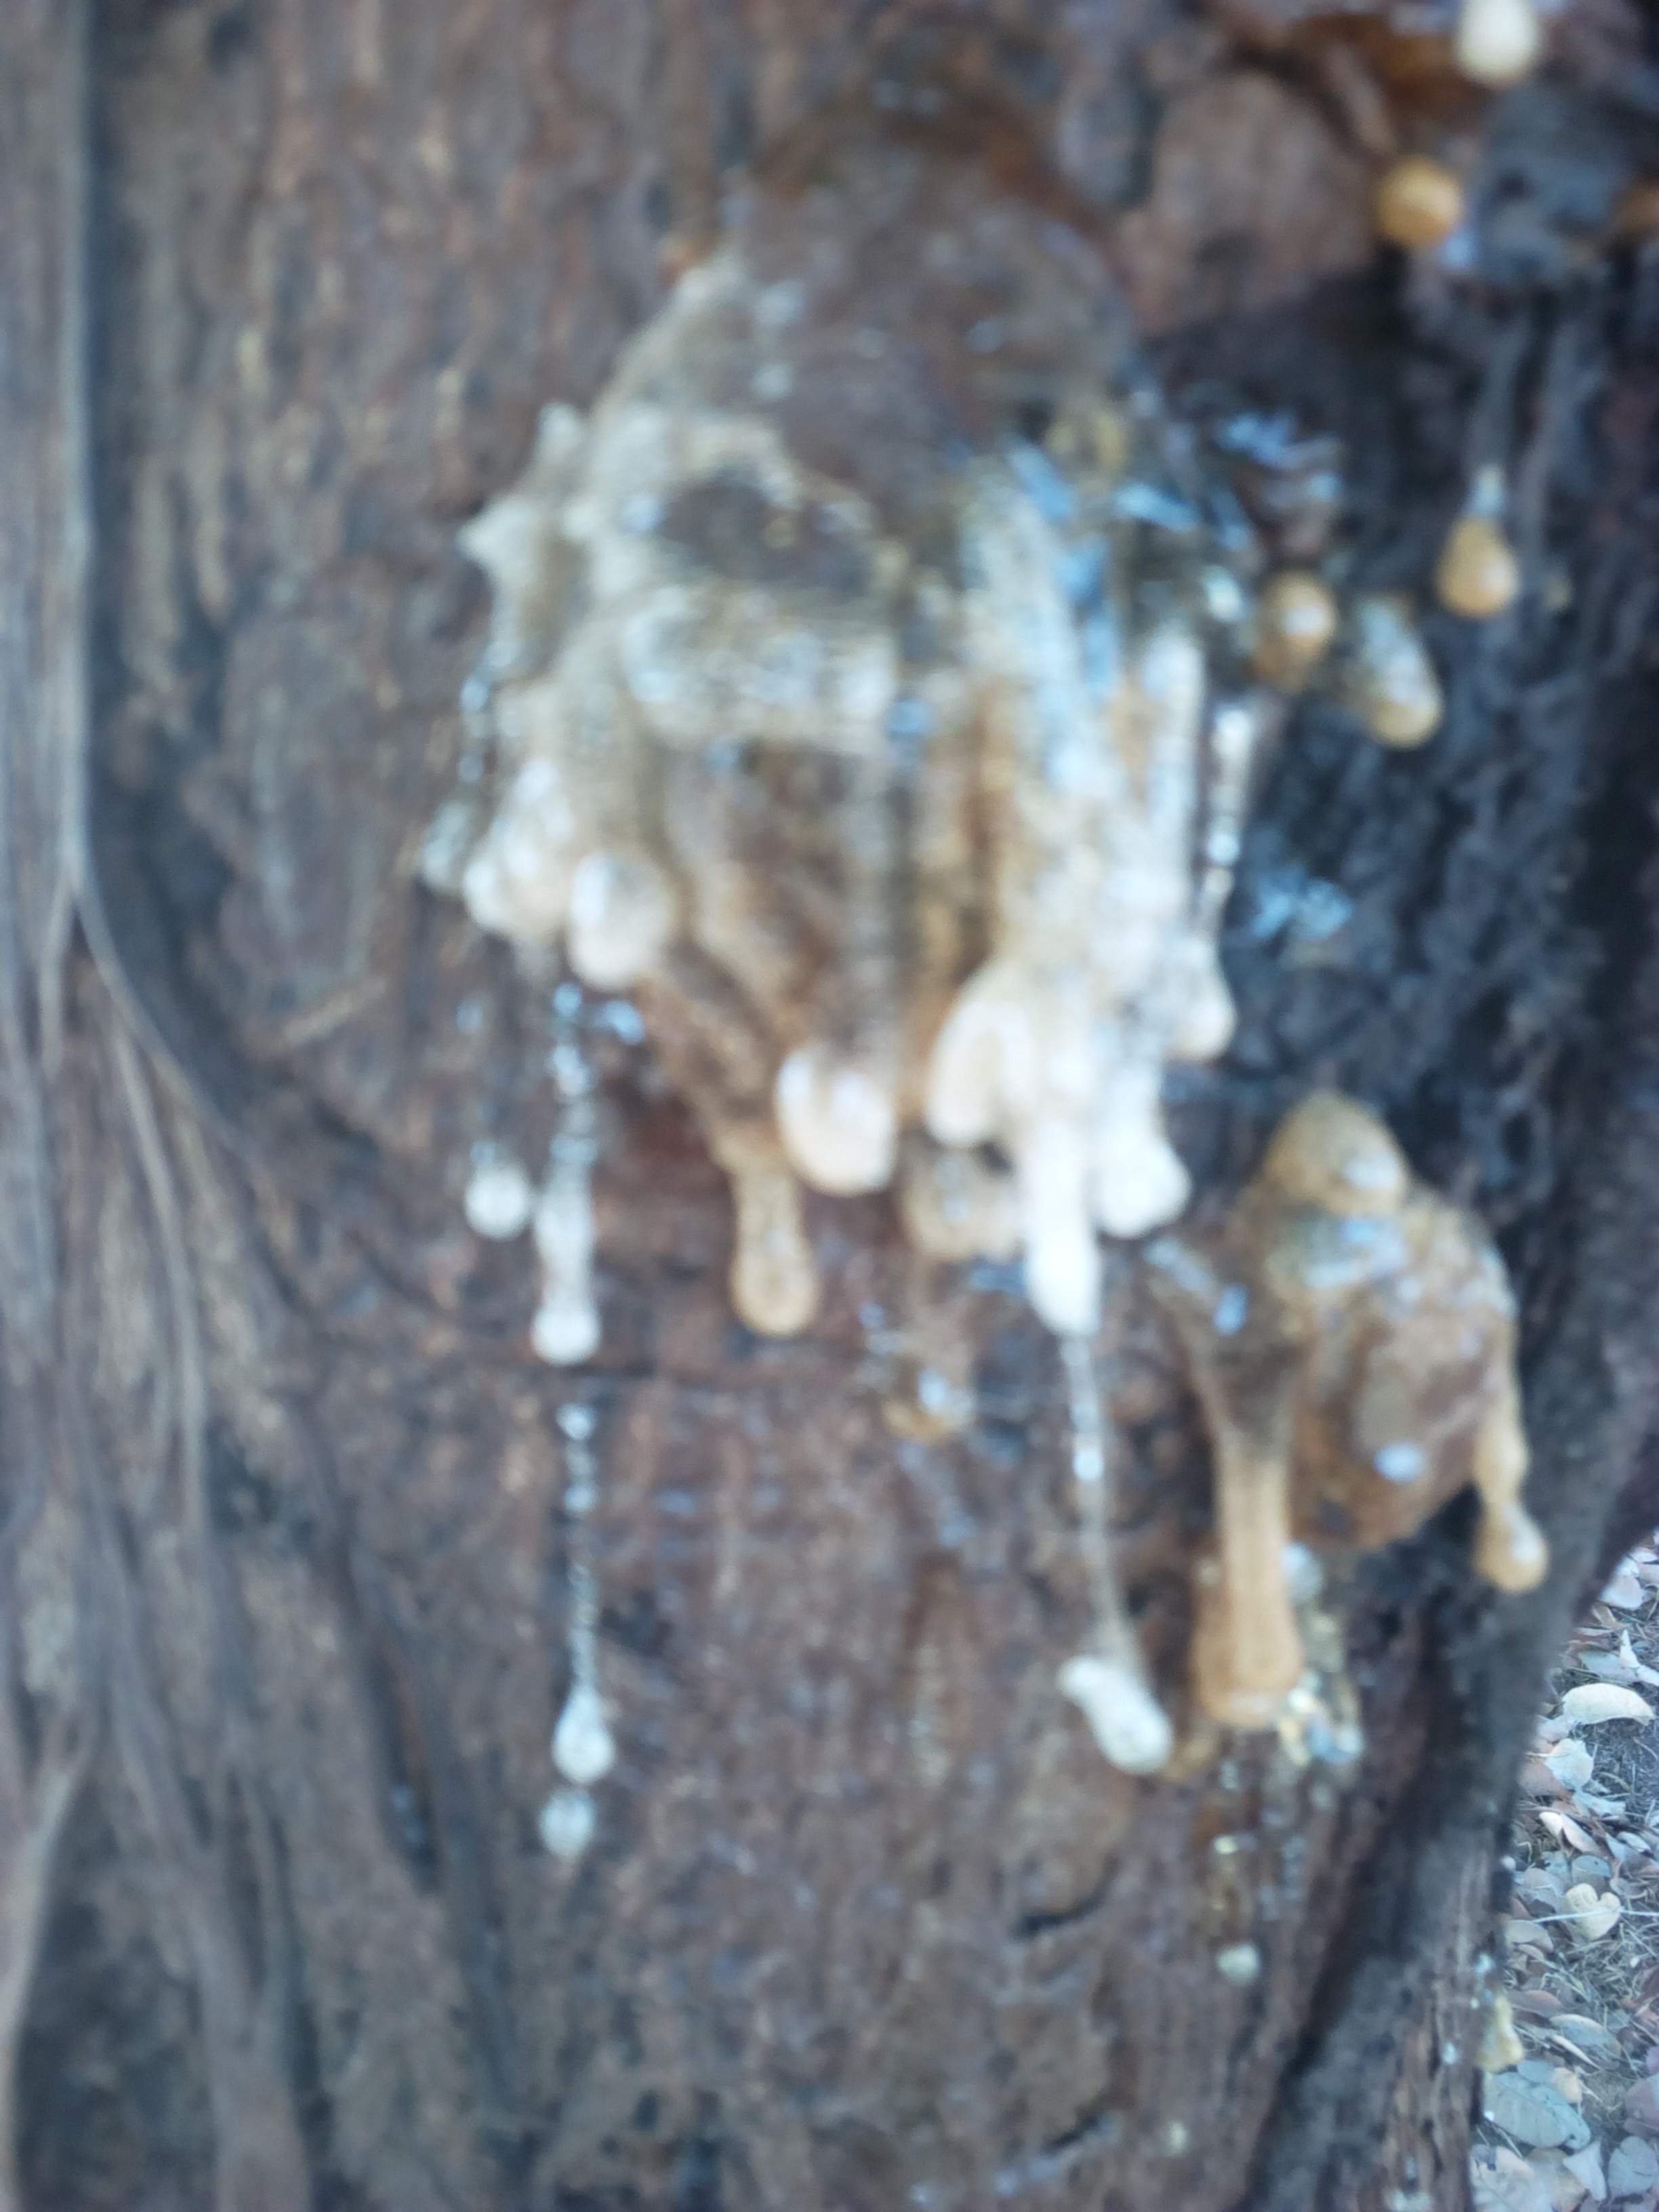Gommose: (484, 268, 1595, 1757)
